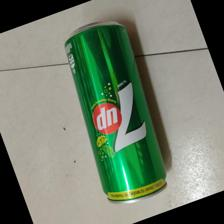7up: (63, 18, 168, 202)
